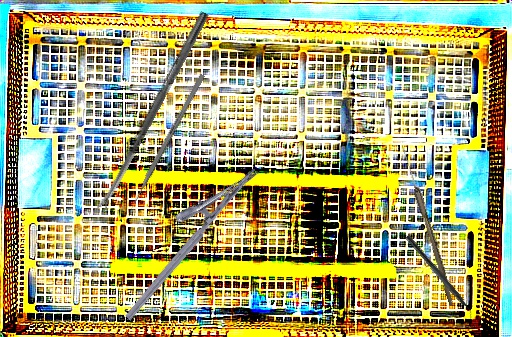Chopper: (399, 233, 480, 325)
Needle Holder: (103, 149, 261, 322)
Pusher: (125, 73, 206, 215)
Surgical Spoon: (93, 10, 210, 216), (398, 145, 458, 307)
